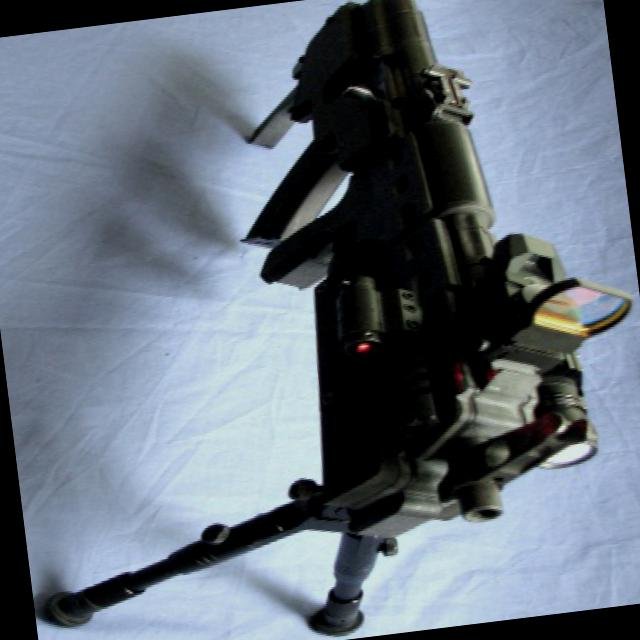long weapon: (76, 0, 631, 639)
